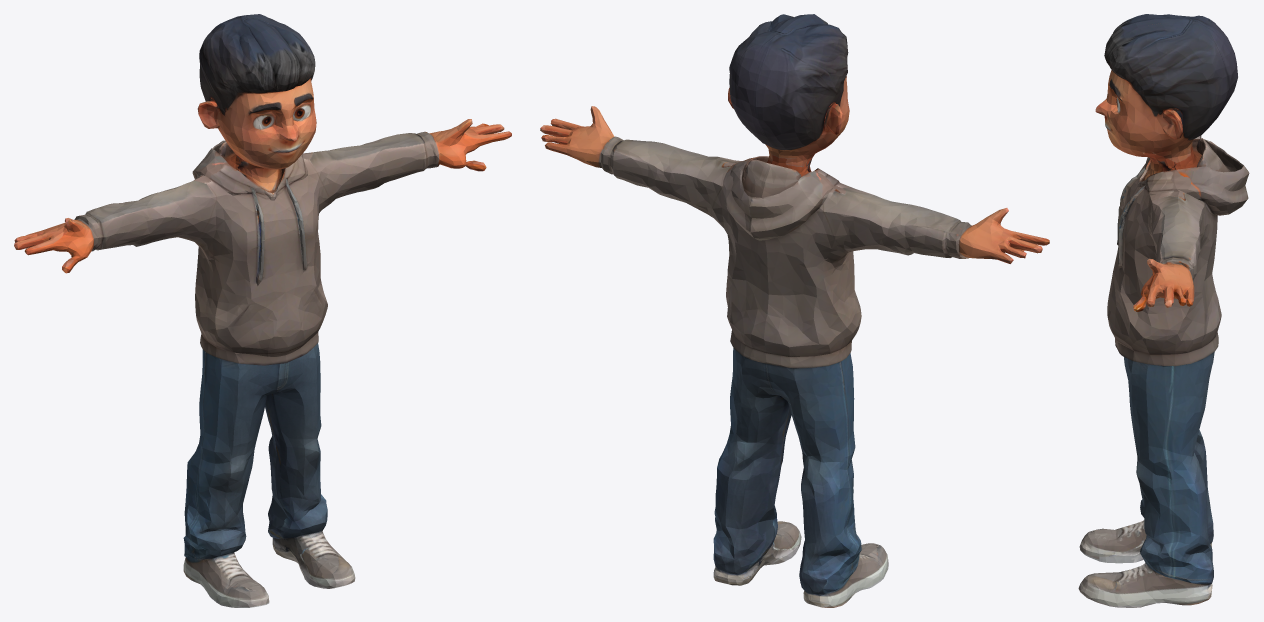
The model's file is A_stylized_3D_cartoon_0610221532_texture.fbx.
The picture shows the model from 3 angles, left to right: view 1: azimuth 30°, elevation 25°; view 2: azimuth 150°, elevation 25°; view 3: azimuth 270°, elevation 25°; orthographic projection. The views are drawn at different scales.
Parts seen in each view (by area): view 1: temp; view 2: temp; view 3: temp.
Boxes of the visible parts, left/top/right/bottom form: temp: left=14, top=14, right=511, bottom=607; temp: left=540, top=14, right=1049, bottom=607; temp: left=1078, top=14, right=1249, bottom=607.
Bounding box in the file's own units: 187 × 200 × 55.61.
1 material, 1 textured.
